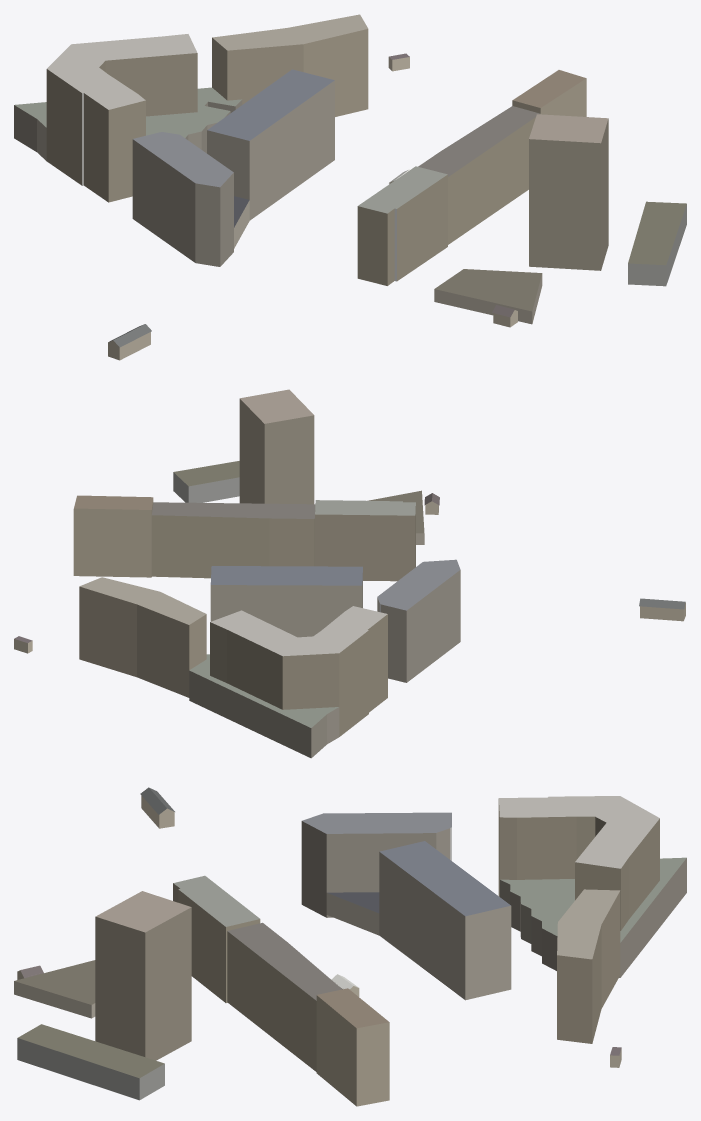
3 views of the same model, one above another, from view 1: azimuth 30°, elevation 25°; view 2: azimuth 150°, elevation 25°; view 3: azimuth 270°, elevation 25° (orthographic). The views are drawn at different scales.
Visible parts, largest first — view 1: tuile; view 2: tuile; view 3: tuile.
Boxes of the visible parts, <box> form: tuile: <box>14,14,686,360</box>; tuile: <box>14,389,685,758</box>; tuile: <box>14,787,686,1106</box>.
Size of the model in its own units: 259 by 54.9 by 250.
